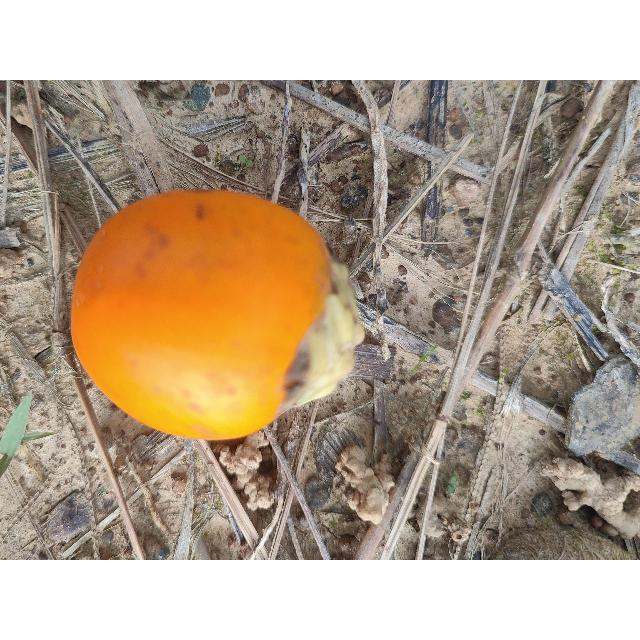good: (69, 190, 364, 443)
